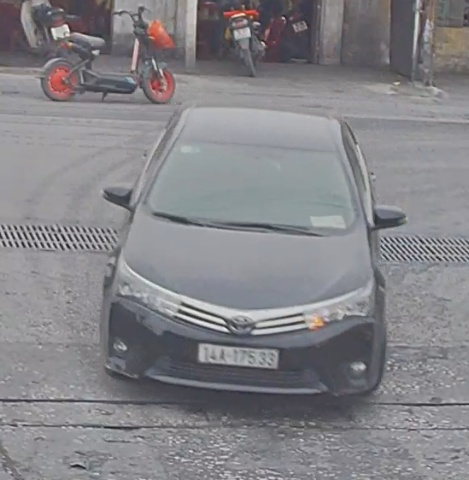vehicle plate: (193, 333, 282, 372)
